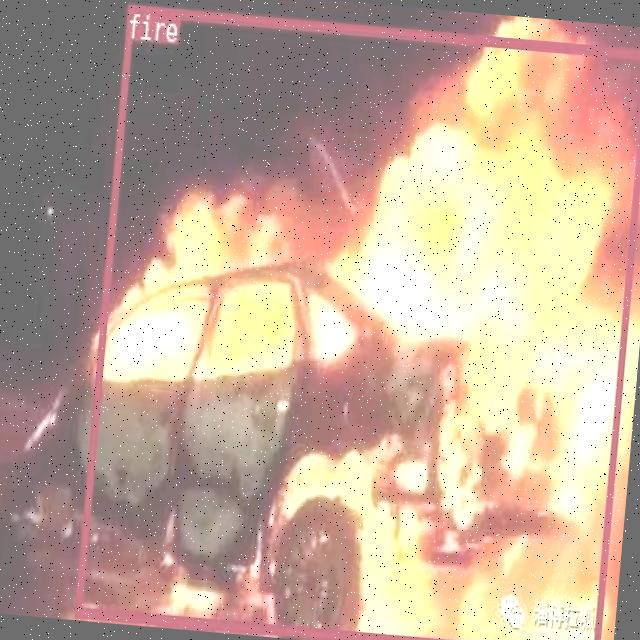fire: (72, 3, 640, 640)
